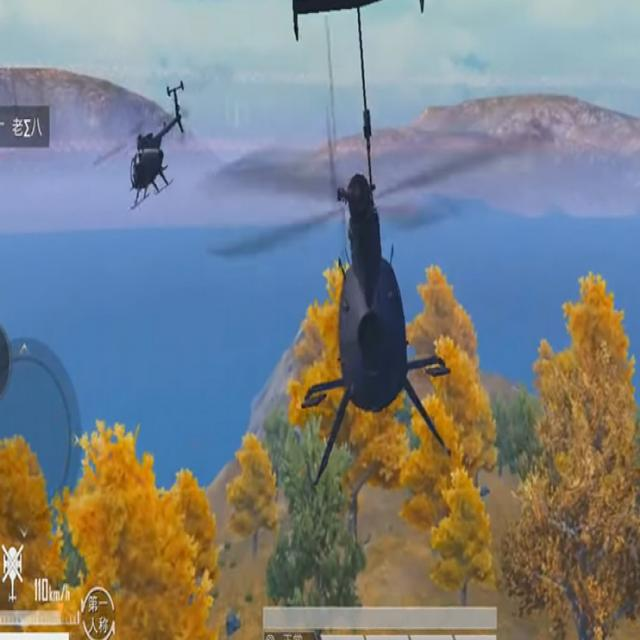helicopter: (272, 1, 480, 509), (90, 55, 207, 232)
